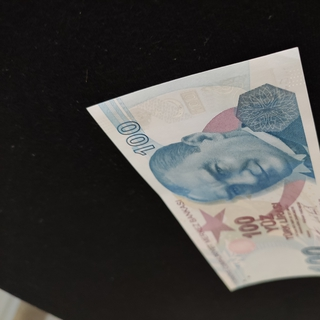100TLFront: (85, 46, 320, 293)
